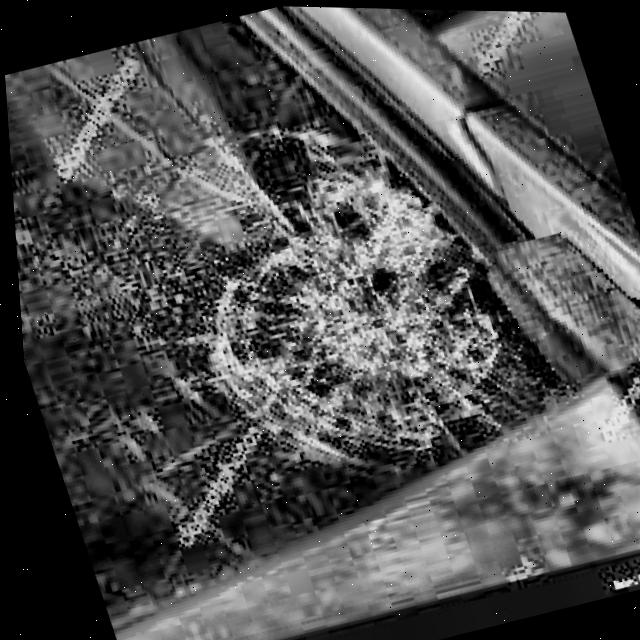glass_shatter: (164, 137, 524, 482)
